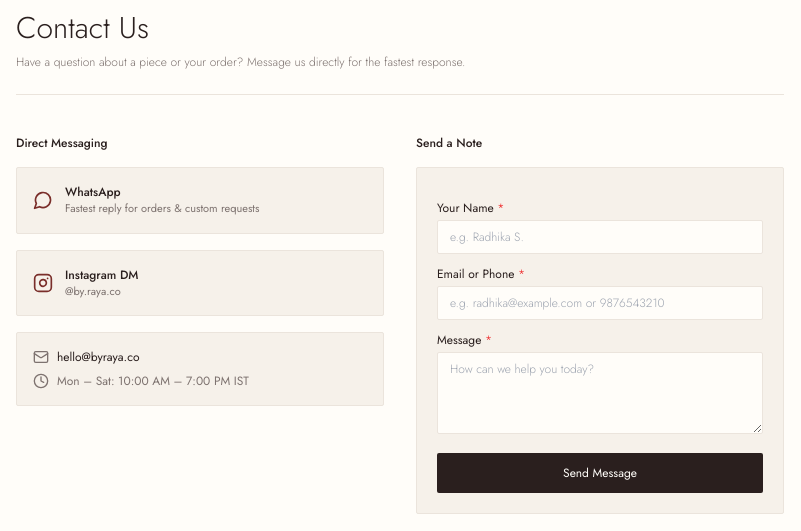
Test: Contact Page & Bot Honeypot Protection › submits genuine contact message to database and displays confirmation
Fill legitimate customer message
Type "Rhea Sharma" into the field labelled "Your Name *" at (600, 237), box [437,220,763,254]
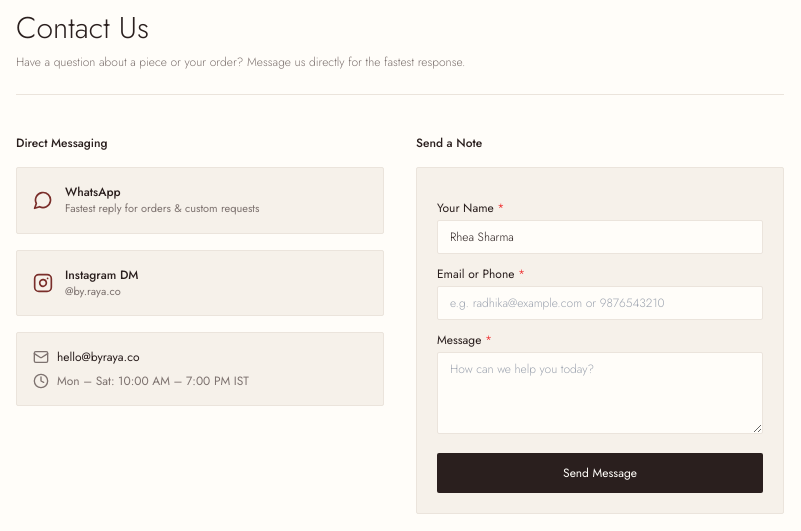
Type "rhea@example.com" into the field labelled "Email or Phone *" at (600, 303), box [437,286,763,320]
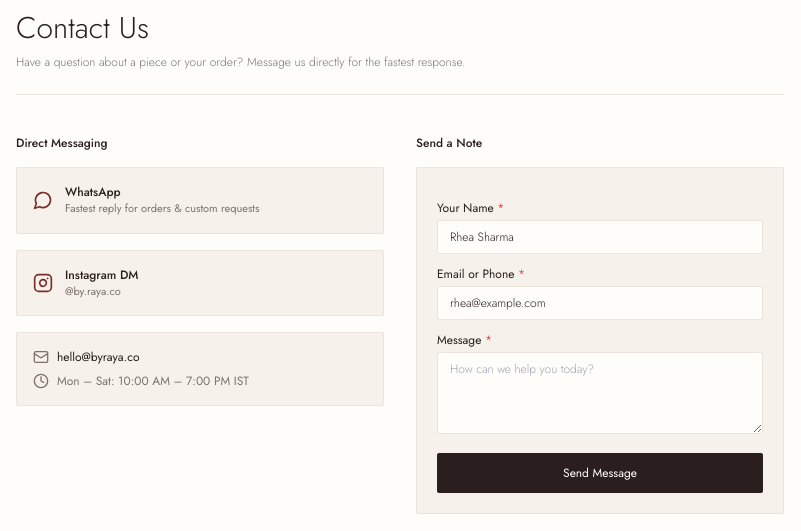
Type "Is custom sizing available for the Solis bracelet?" into the text box labelled "Message *" at (600, 393), box [437,352,763,434]
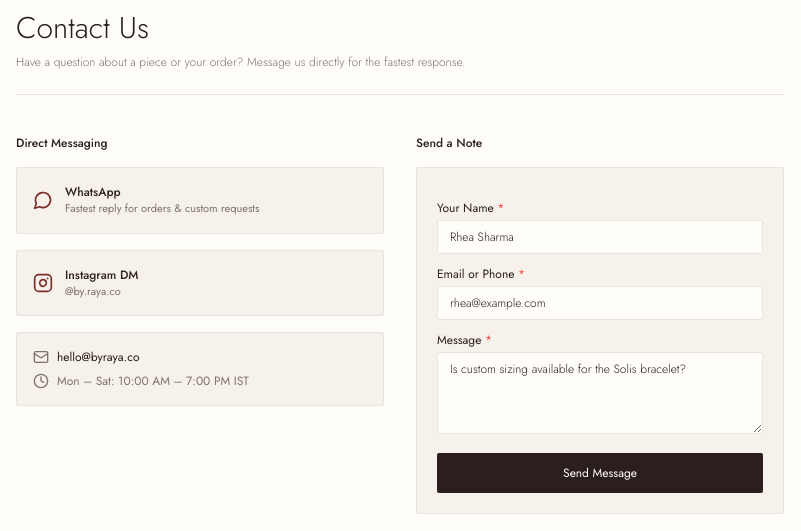
Submit form
Click the button "Send Message" at (600, 473), box [437,453,763,493]
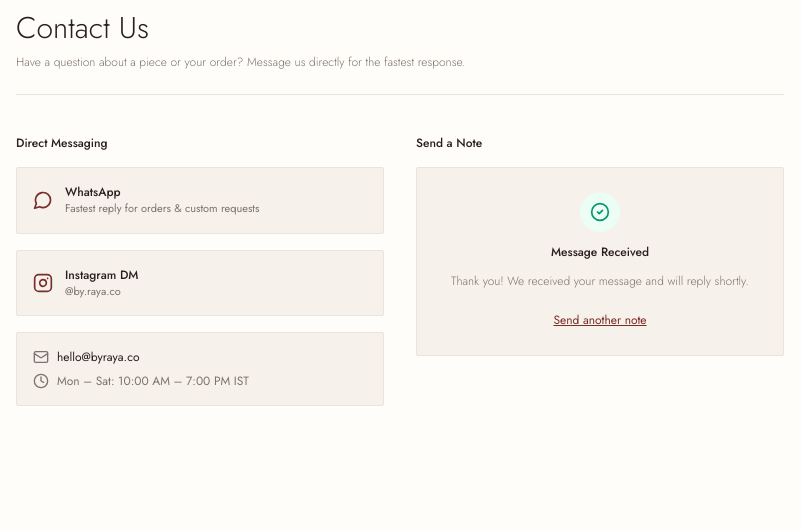
Check: the heading "Message Received" is shown, box [551,243,649,261]
